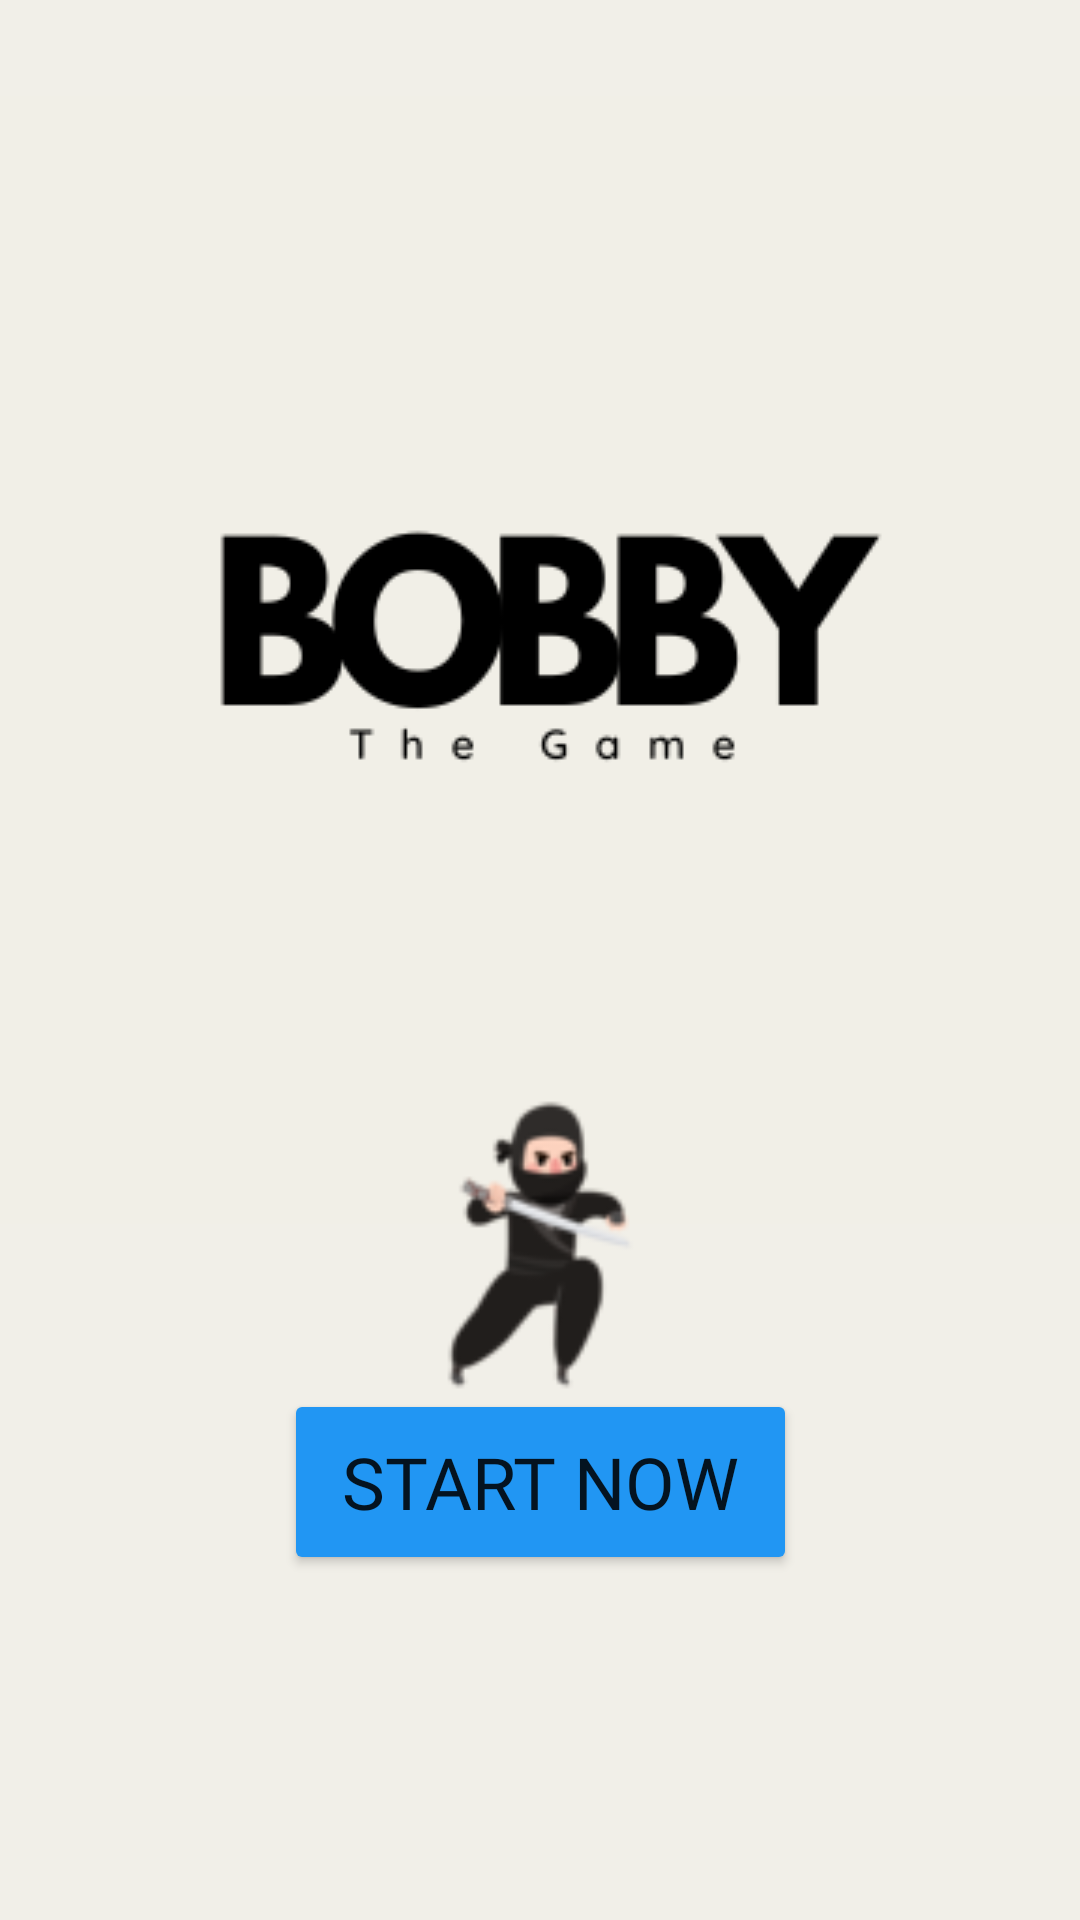

Where icons sit on this 1080×1920 app screen, as BBox(x1, y1, x2, y2):
ninja: BBox(449, 1102, 626, 1387)
